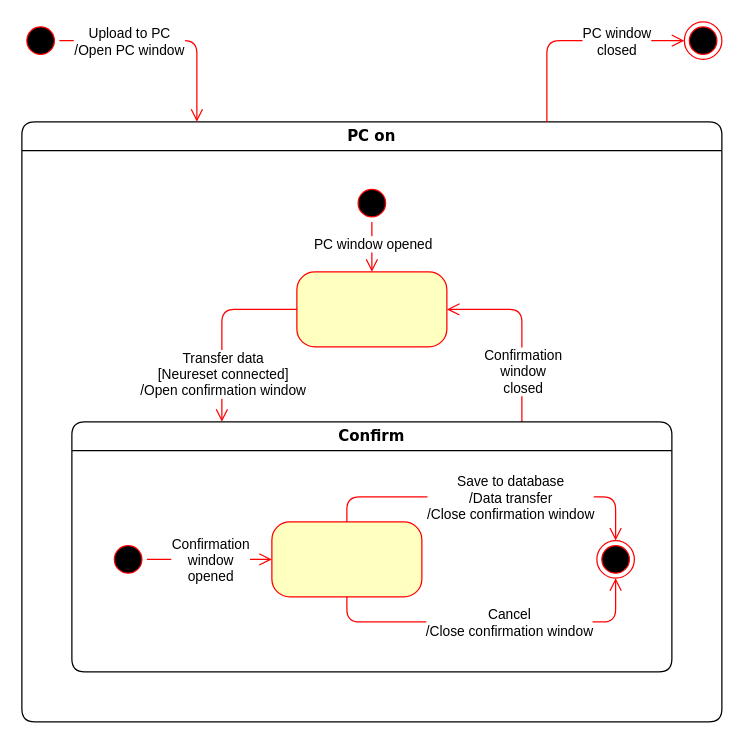
The diagram is 744 pixels wide and 744 high, and some of its shapes have lost their labels. The shapes that lost their labels are listed below. From the top down, each one's box as (x1, y1, x2, y2) in pixels, then its label:
(296, 271, 447, 347): Display therapy history
(271, 521, 422, 597): Confirm data transfer
